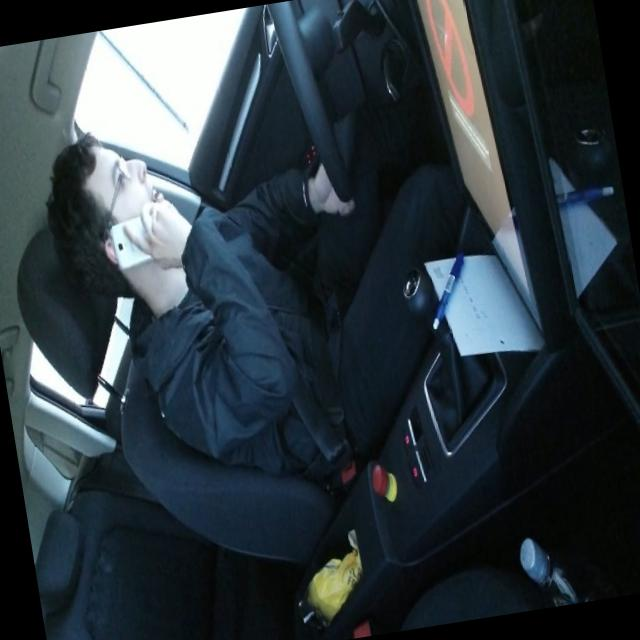pen: (417, 240, 478, 336)
